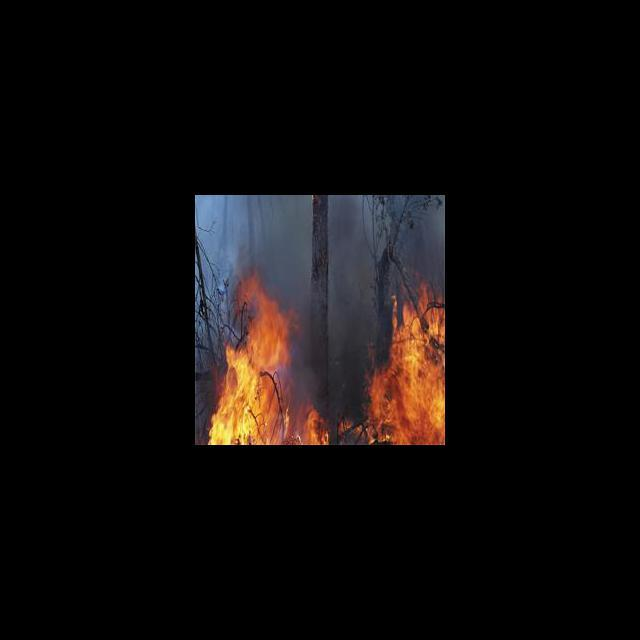Fire: (204, 269, 324, 444), (362, 287, 445, 444)
